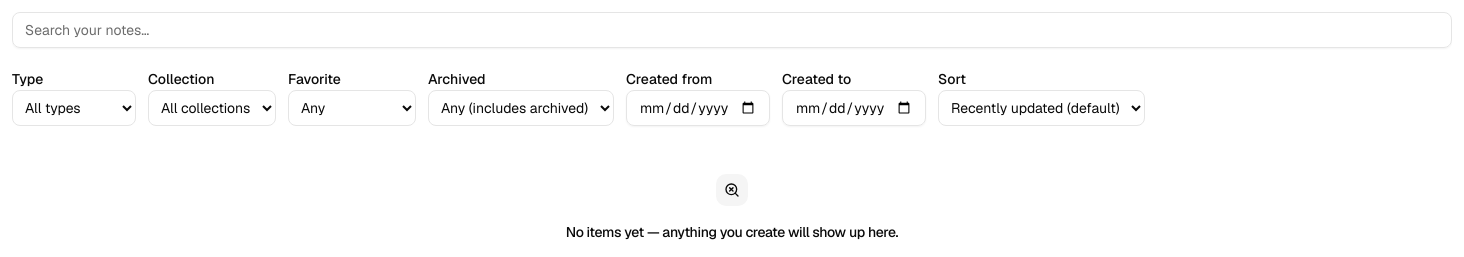
Test: SearchView › shows recent searches on focus when the query is empty, hides them once typing starts
Focus the field with placeholder "Search your notes…" at coordinates (732, 30), box left=12, top=12, right=1452, bottom=48
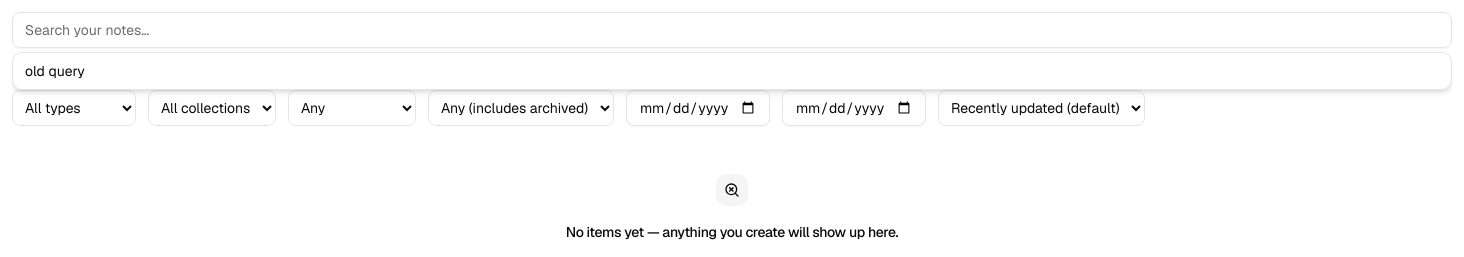
Expected: the button "old query" is shown, left=13, top=53, right=1451, bottom=89
Type "x" into the field with placeholder "Search your notes…".
click(732, 30); type("x")  # box left=12, top=12, right=1452, bottom=48
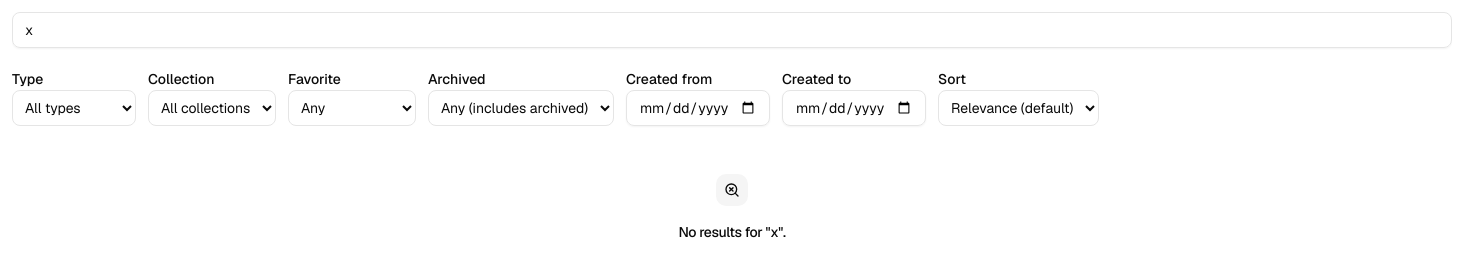
Expected: the button "old query" is gone
